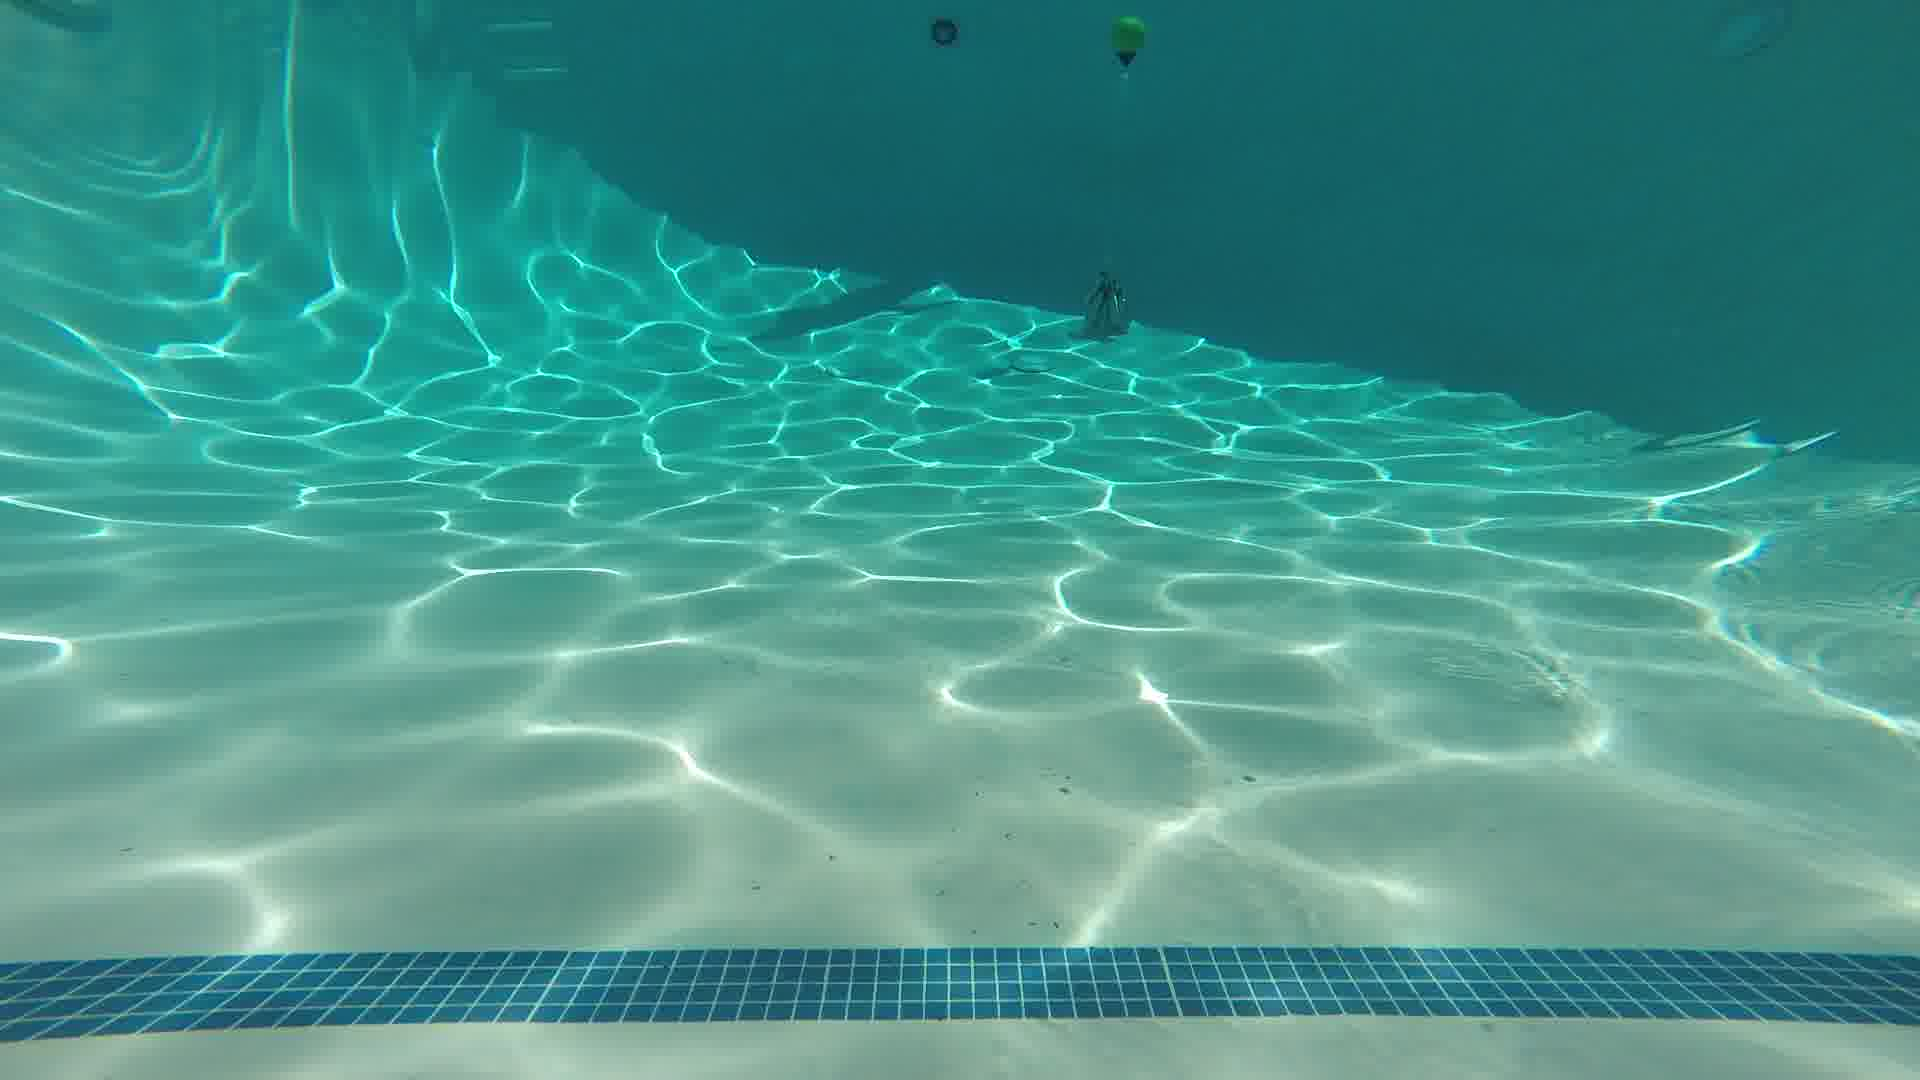yellow buoy: (1101, 11, 1154, 84)
